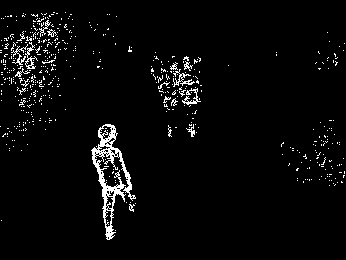person: (89, 122, 136, 241), (176, 55, 203, 139), (158, 55, 183, 140)
